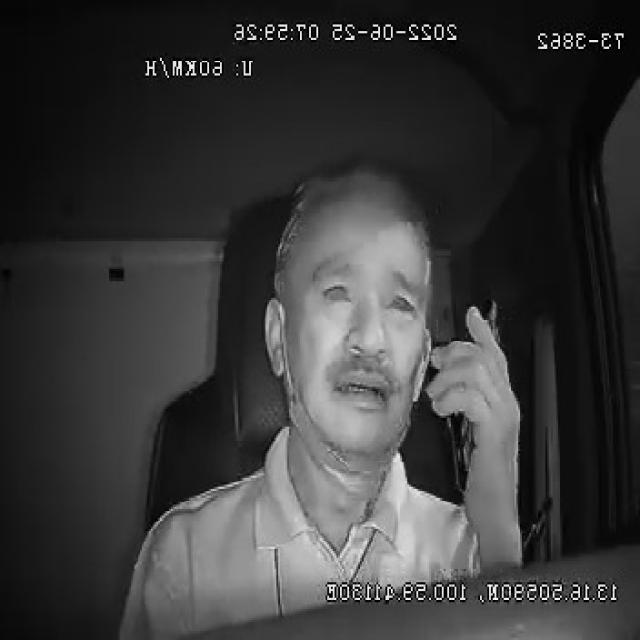phone: (446, 294, 503, 504)
